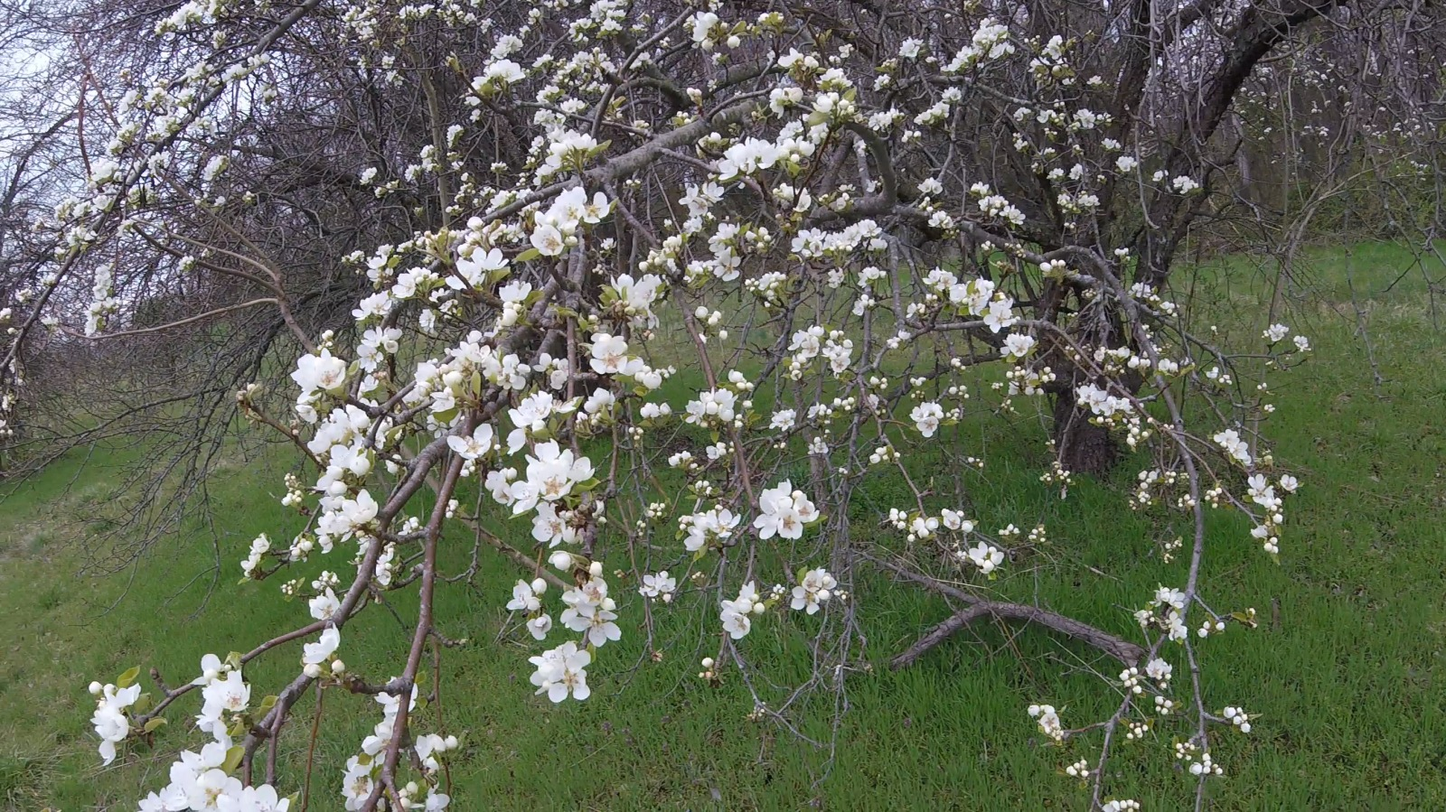flower: (139, 654, 290, 812), (485, 439, 596, 548), (402, 331, 531, 414), (308, 405, 379, 554), (718, 119, 830, 181), (456, 191, 517, 289), (531, 187, 611, 257), (532, 108, 602, 186), (559, 562, 622, 648), (578, 331, 670, 389), (89, 668, 142, 767), (352, 267, 439, 325), (507, 391, 583, 456), (291, 349, 347, 425), (754, 479, 820, 540), (529, 641, 591, 703), (941, 17, 1010, 72), (427, 415, 493, 471), (792, 219, 887, 257), (684, 223, 744, 283), (923, 267, 996, 316), (472, 33, 531, 90), (535, 51, 596, 106), (81, 258, 122, 338), (611, 274, 662, 330), (484, 282, 532, 338), (679, 509, 742, 551), (679, 182, 725, 238), (361, 692, 401, 756), (721, 581, 765, 639), (568, 0, 628, 41), (352, 326, 403, 373), (792, 566, 838, 615), (303, 624, 341, 678), (686, 387, 739, 425), (1076, 384, 1136, 417), (415, 734, 457, 779), (915, 87, 962, 126), (342, 756, 374, 812), (788, 325, 824, 370), (158, 0, 208, 31), (1214, 429, 1254, 466), (984, 293, 1020, 334), (84, 155, 125, 190), (987, 195, 1026, 230), (241, 533, 272, 577), (683, 12, 719, 49), (533, 353, 569, 390), (1247, 474, 1282, 512), (650, 232, 683, 272), (507, 578, 547, 611), (1028, 705, 1064, 741), (910, 400, 944, 438), (366, 244, 393, 290), (310, 587, 346, 621), (822, 340, 853, 379), (969, 542, 1004, 574), (869, 103, 906, 133), (1090, 346, 1140, 368), (71, 195, 113, 221), (769, 88, 803, 119), (358, 372, 387, 407), (1000, 332, 1039, 358), (638, 572, 676, 597), (746, 272, 789, 294), (549, 551, 588, 574), (376, 542, 396, 586), (585, 388, 616, 414), (290, 532, 315, 562), (425, 782, 450, 812), (399, 782, 426, 809), (1224, 707, 1252, 733), (917, 172, 944, 198), (1156, 587, 1186, 610), (1165, 611, 1188, 641), (117, 88, 143, 114), (202, 154, 227, 181), (527, 613, 552, 640), (832, 387, 859, 411), (769, 409, 797, 432), (375, 416, 393, 451), (909, 518, 939, 539), (221, 61, 248, 84), (180, 61, 208, 83), (1146, 658, 1173, 680), (812, 92, 840, 113), (859, 267, 887, 288), (1042, 36, 1066, 60), (1074, 109, 1101, 130), (419, 309, 438, 338), (899, 37, 925, 58), (989, 40, 1015, 61), (853, 294, 877, 316), (696, 306, 722, 326), (728, 369, 754, 389), (1189, 753, 1212, 775), (1262, 323, 1290, 341), (778, 48, 804, 67), (929, 211, 956, 229), (884, 509, 907, 530), (641, 403, 671, 419), (942, 509, 964, 530), (793, 188, 812, 212), (1174, 176, 1199, 194), (1103, 800, 1140, 812), (630, 51, 653, 70), (815, 69, 844, 84), (1251, 514, 1268, 539), (1141, 469, 1161, 490), (597, 56, 619, 75), (447, 125, 465, 148), (1280, 475, 1301, 494), (1066, 757, 1087, 776), (399, 517, 419, 536), (561, 98, 586, 113), (669, 452, 691, 469), (1040, 259, 1066, 273), (1120, 667, 1138, 687), (1116, 156, 1138, 172), (892, 331, 911, 349), (707, 443, 727, 460), (282, 490, 302, 507), (446, 275, 467, 291), (1159, 359, 1178, 376), (532, 54, 554, 68), (804, 52, 821, 70), (870, 446, 887, 464), (1068, 163, 1084, 182), (774, 183, 794, 198), (728, 28, 742, 49), (1127, 425, 1141, 446), (972, 182, 990, 198), (1293, 336, 1311, 352), (1197, 621, 1211, 639), (409, 684, 418, 712), (699, 133, 721, 144), (331, 660, 345, 677), (719, 331, 728, 355), (1025, 377, 1036, 396), (375, 751, 387, 768), (759, 228, 772, 241), (465, 97, 481, 107), (640, 261, 653, 272), (1009, 383, 1019, 396), (1207, 368, 1219, 378), (746, 231, 757, 241), (1139, 471, 1148, 481), (870, 377, 881, 385), (663, 594, 671, 603), (1133, 686, 1142, 694), (1216, 623, 1225, 630), (1081, 770, 1089, 777), (327, 621, 332, 626), (345, 594, 348, 599)
